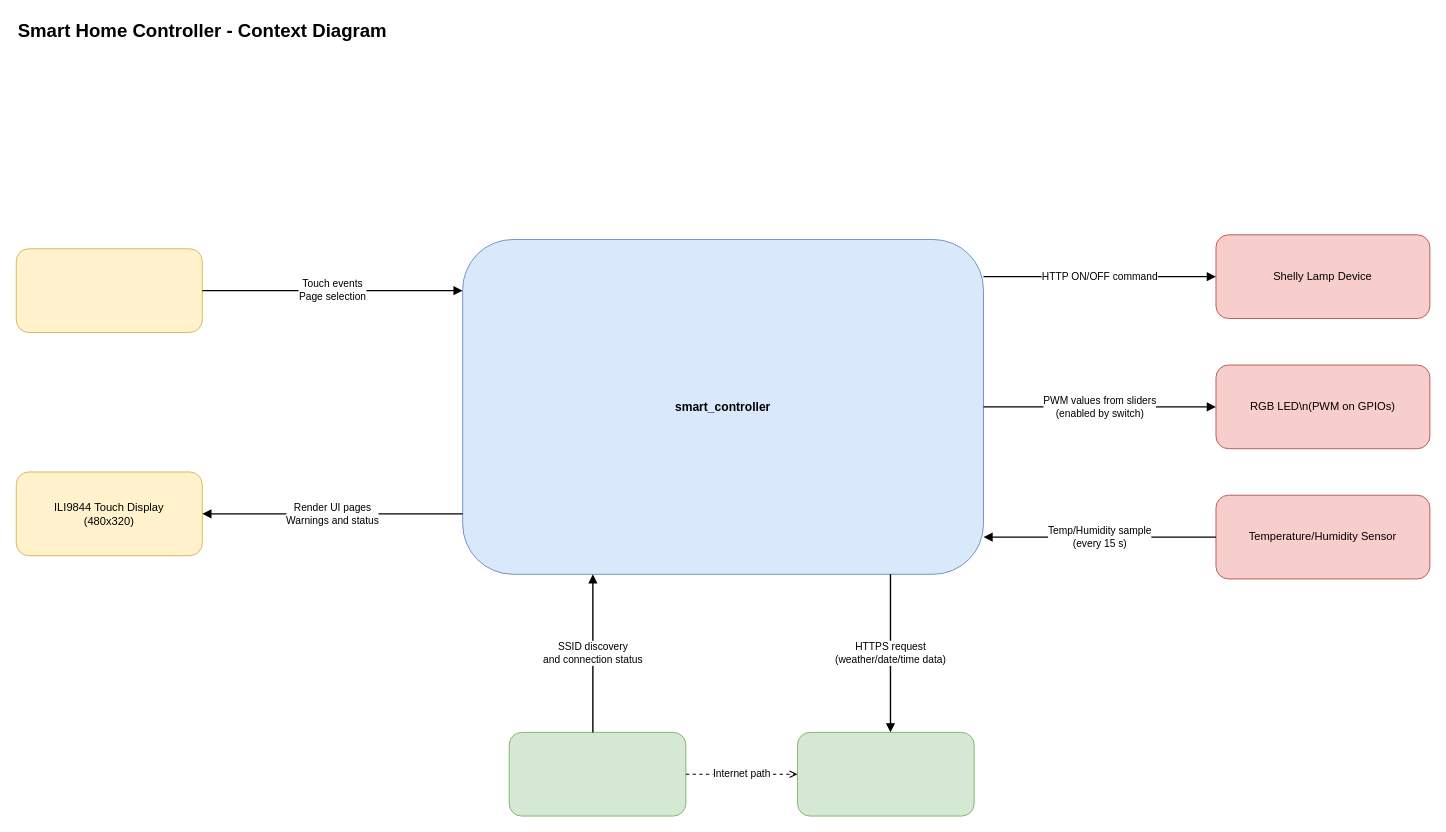
This 1446x832 diagram has some shape labels left out. The centre of each missing label's shape, as x and y in pixels:
OpenWeather API: (x=885, y=773)
User (Touch Interaction): (x=108, y=290)
WLAN / SSID (Access Point + Internet): (x=597, y=773)
